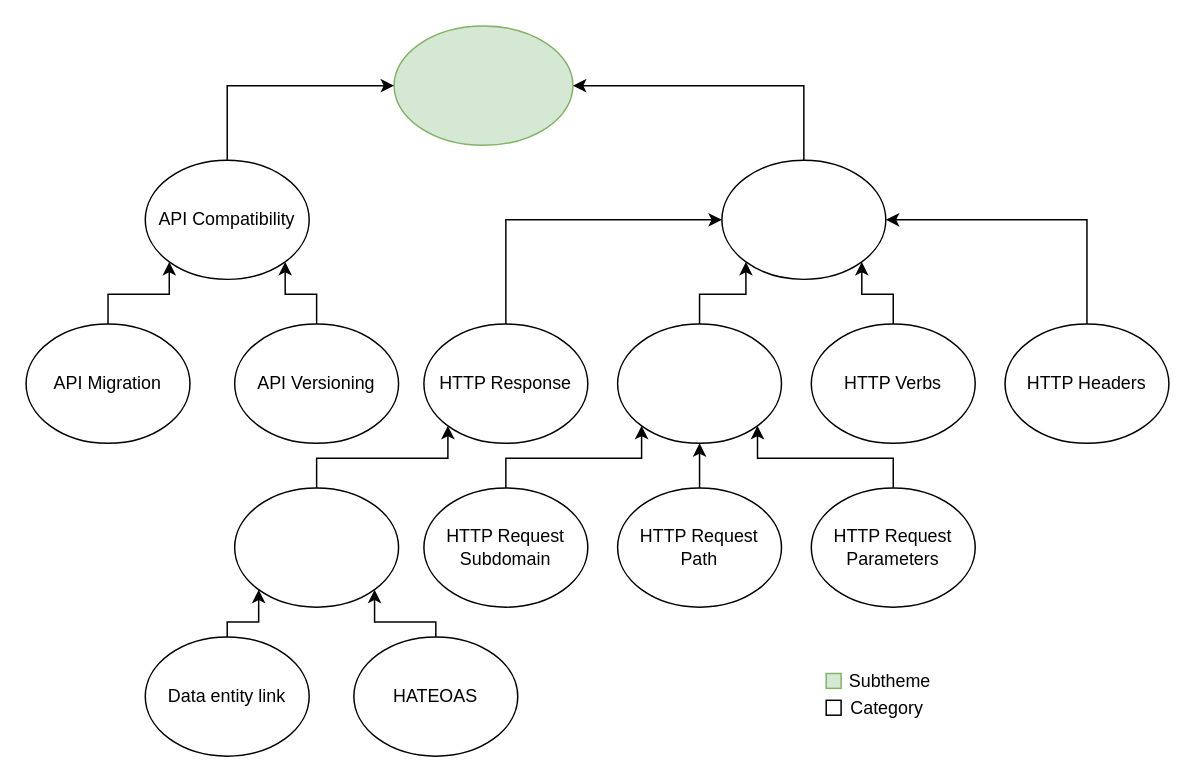
Image size: 1195x782. Some labels were removed from this diagram. The centre of each missing label's shape, as x and y in pixels:
Client Communication: (x=803, y=219)
HTTP Request: (x=699, y=383)
Hypermedia: (x=316, y=546)
REST API: (x=483, y=85)
